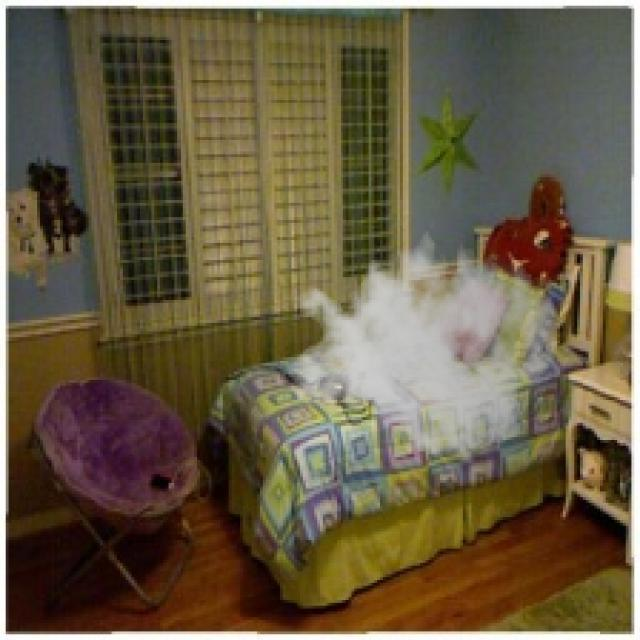Smoke: (286, 219, 560, 472)
